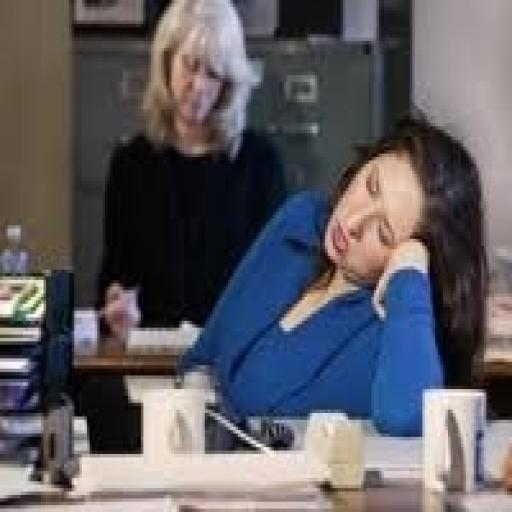sleeping: (174, 112, 489, 444)
